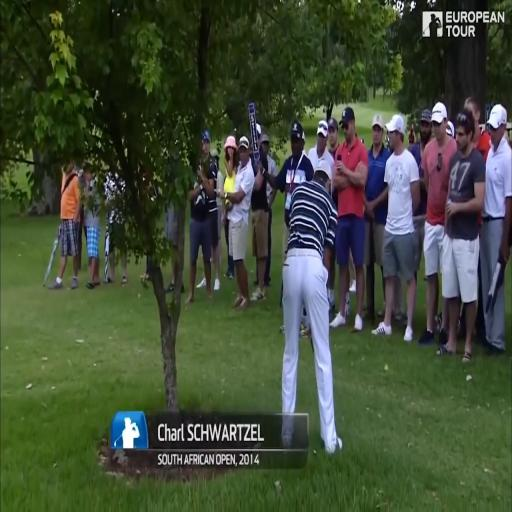nao-violencia: (420, 90, 488, 370), (308, 89, 369, 346), (362, 103, 423, 348), (461, 80, 512, 363), (215, 124, 260, 321)
